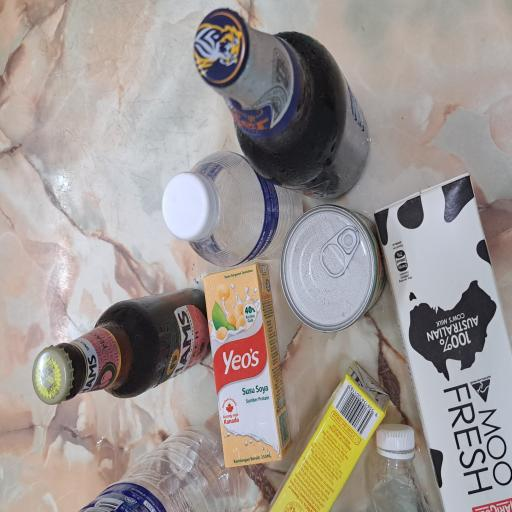can: (135, 372, 234, 512)
drink carton: (2, 350, 114, 512), (30, 273, 198, 379)
glass bottle: (240, 252, 377, 501), (81, 36, 170, 282)
plastic bottle: (0, 101, 68, 338), (181, 253, 272, 411)
plastic bottle cap: (207, 218, 252, 288), (47, 498, 65, 512)
pop tab: (178, 423, 213, 479)
